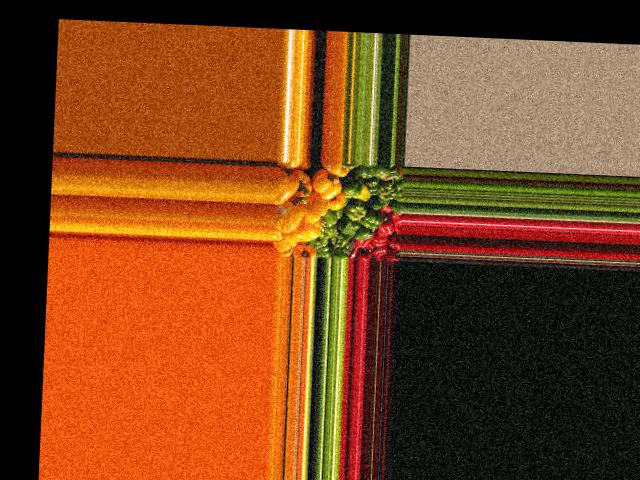bell_pepper: (380, 163, 404, 181)
